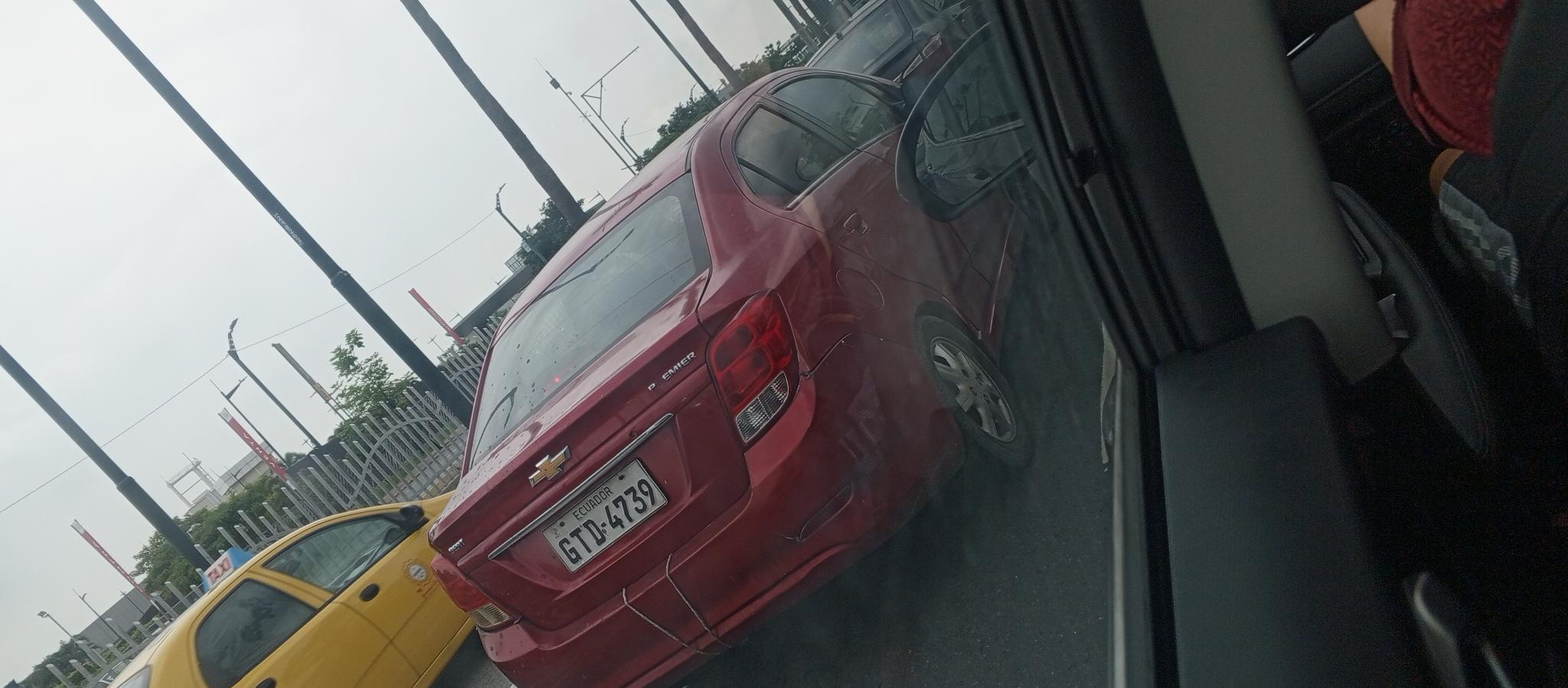license_plate: (536, 458, 669, 574)
